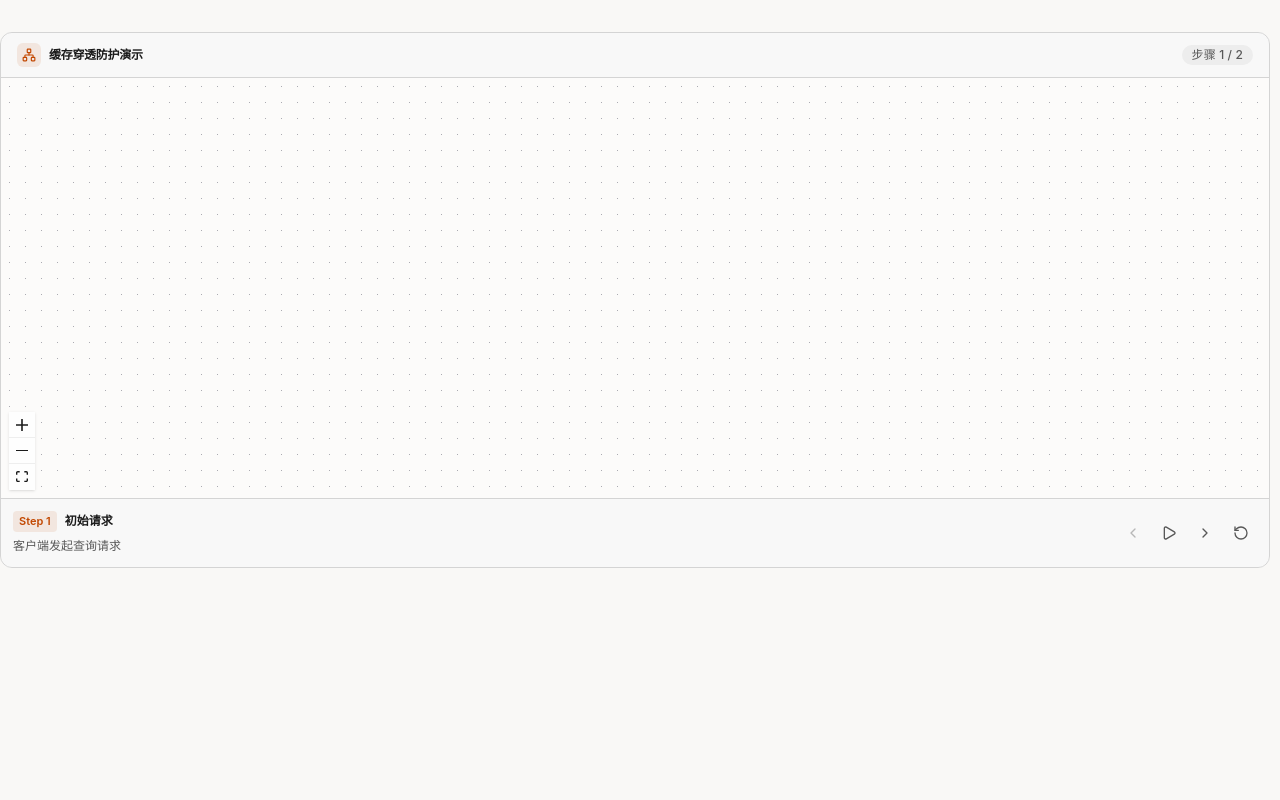
Scenario: SystemFlow 系统设计动效组件 › 支持点击下一步与上一步切换演进步骤
Click the button named "下一步": (1205, 533) [1189,517,1221,549]
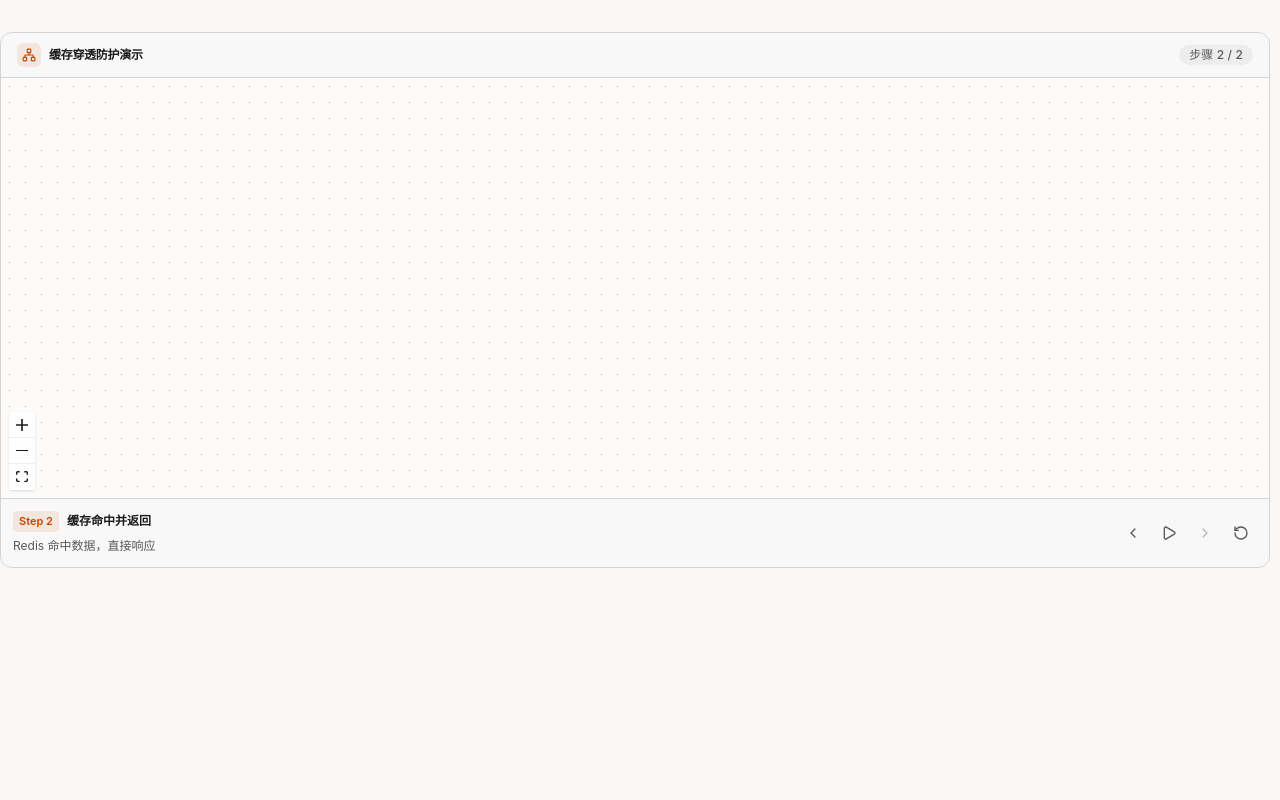
Now the text "缓存命中并返回" is shown, box [67,513,151,529]
Now the text "Redis 命中数据，直接响应" is shown, box [13,536,156,555]
Now the text "步骤 2 / 2" is shown, box [1179,45,1253,65]
Note: 点击上一步回到第 1 步
Click the button named "上一步": (1133, 533) [1117,517,1149,549]
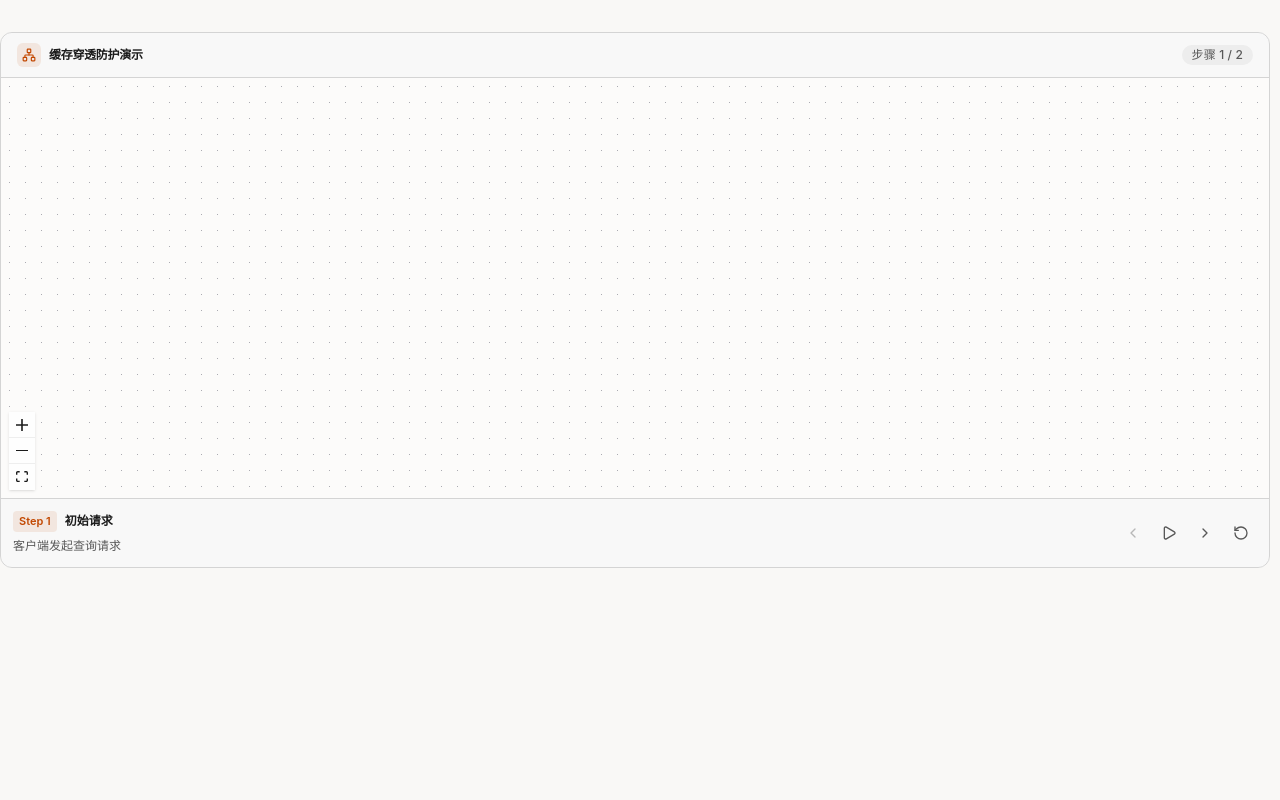
Now the text "初始请求" is shown, box [65,513,113,529]
